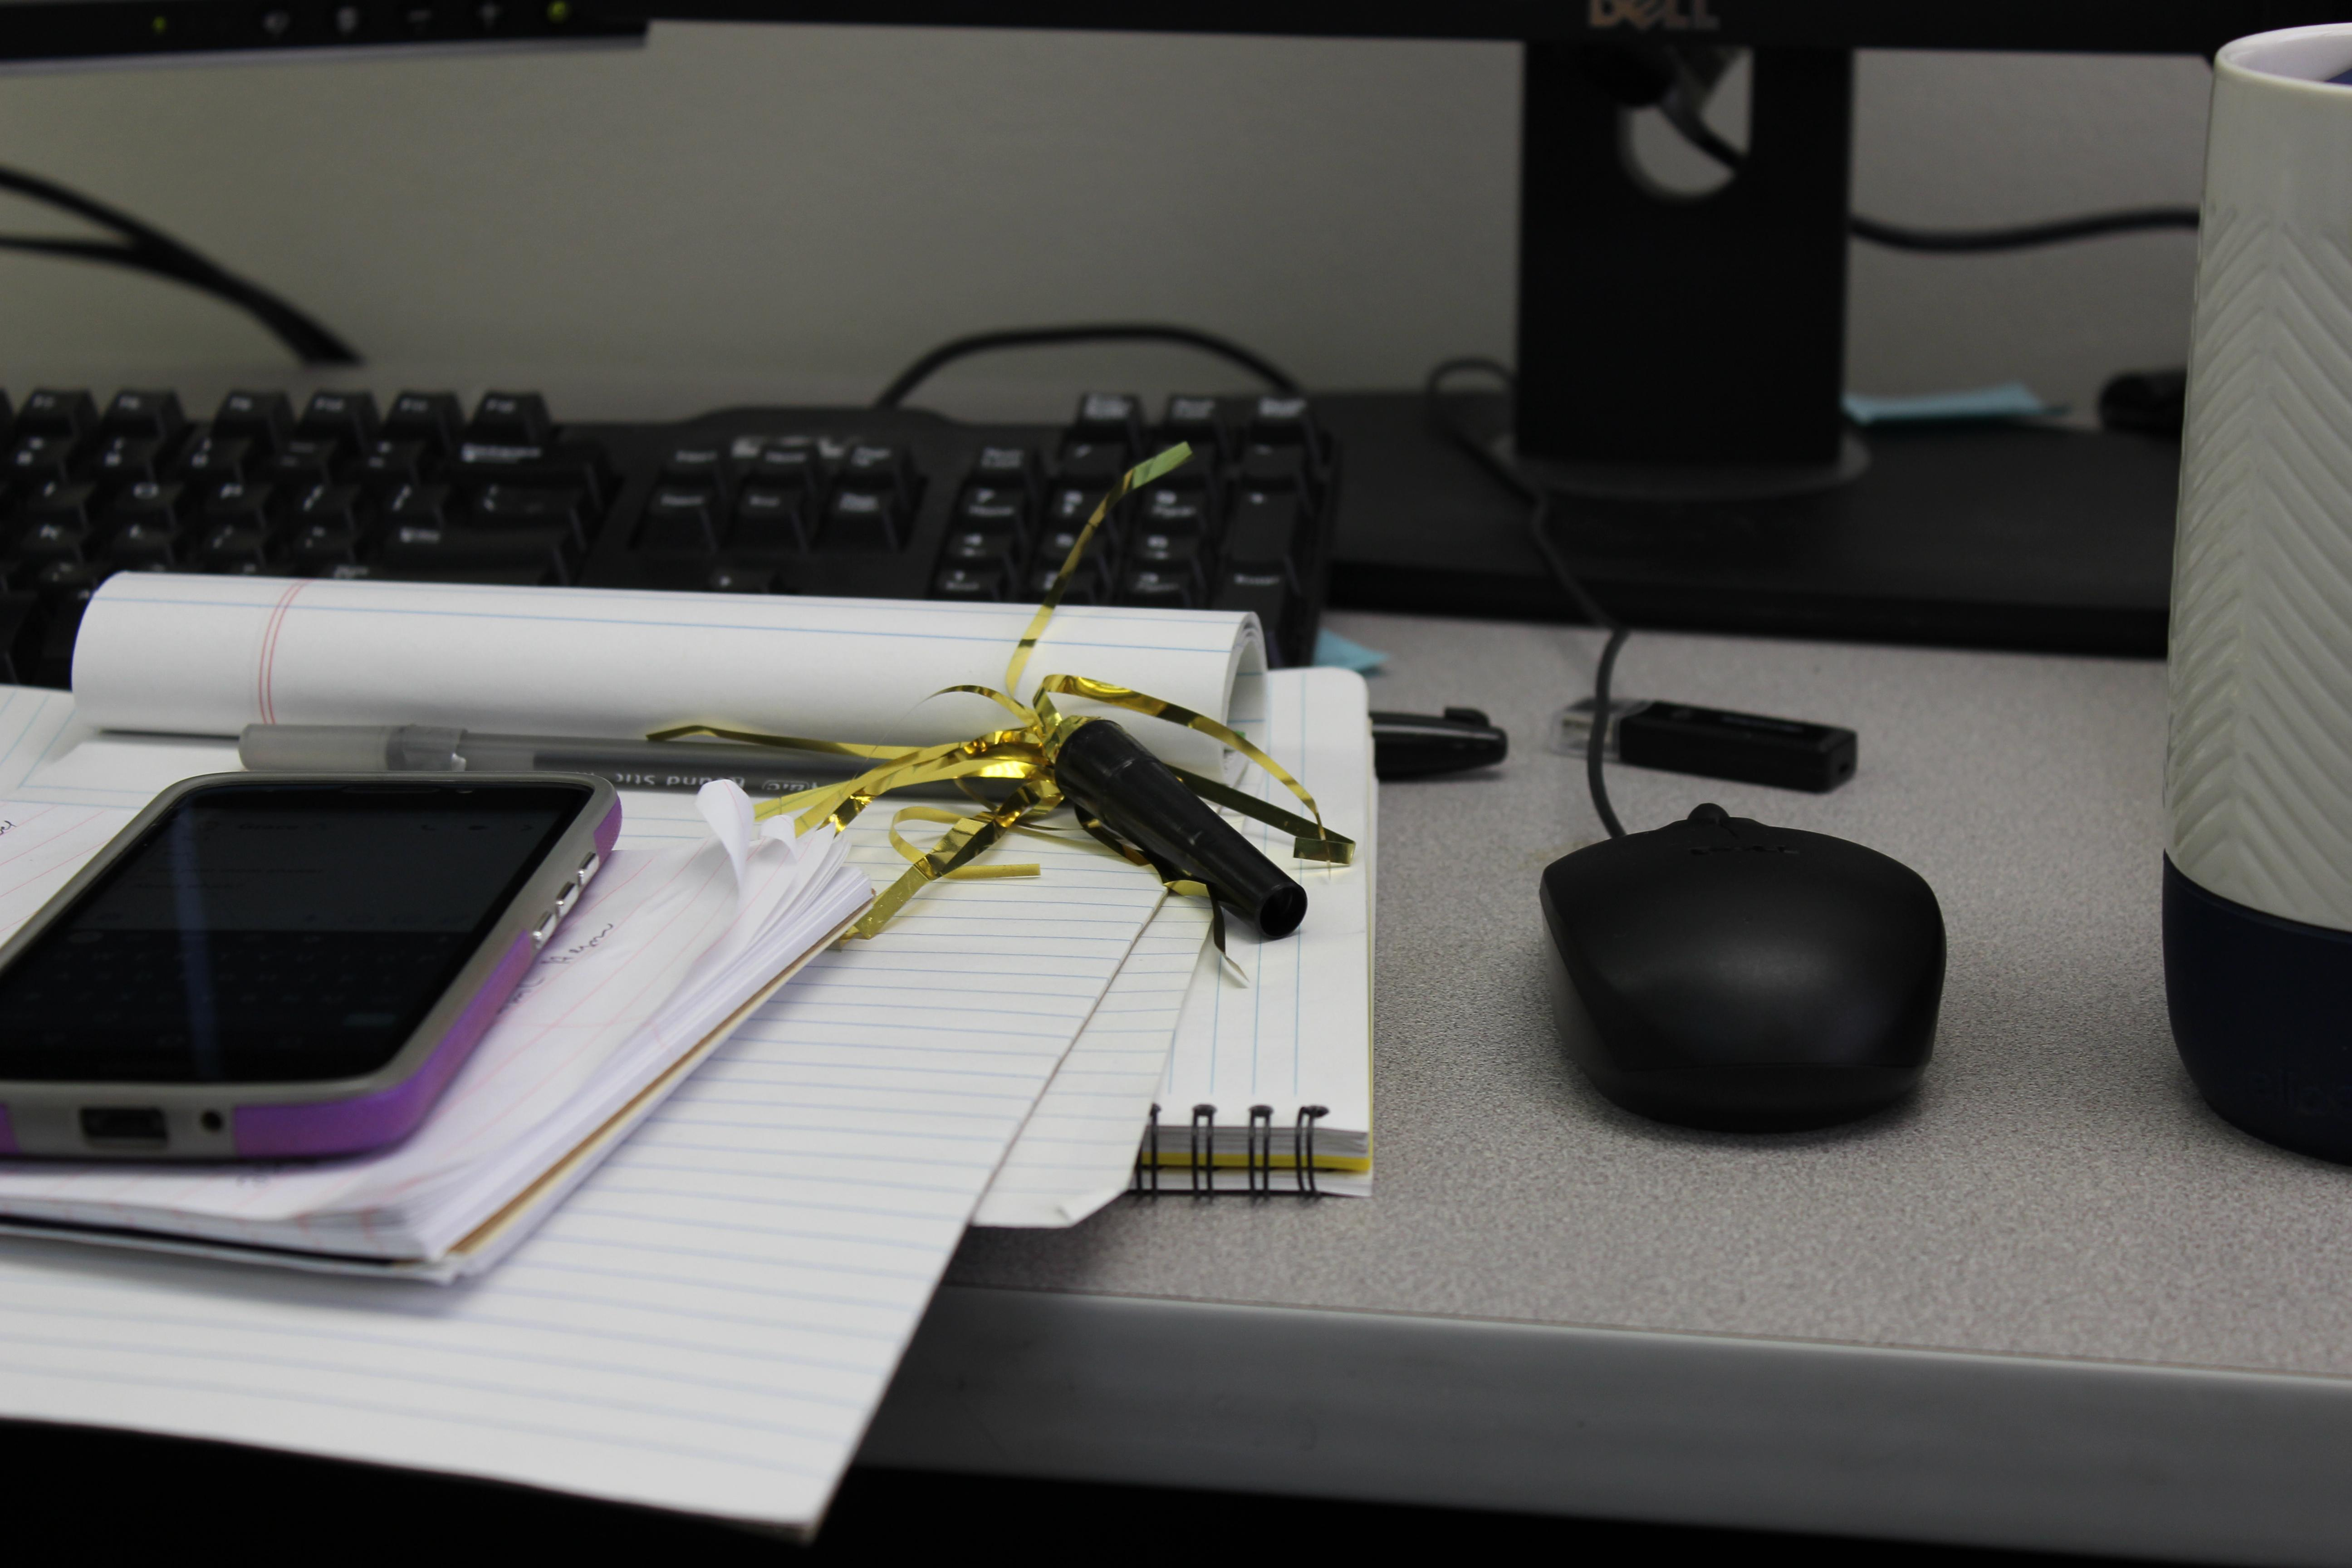partyFavor: (616, 415, 1372, 1008)
